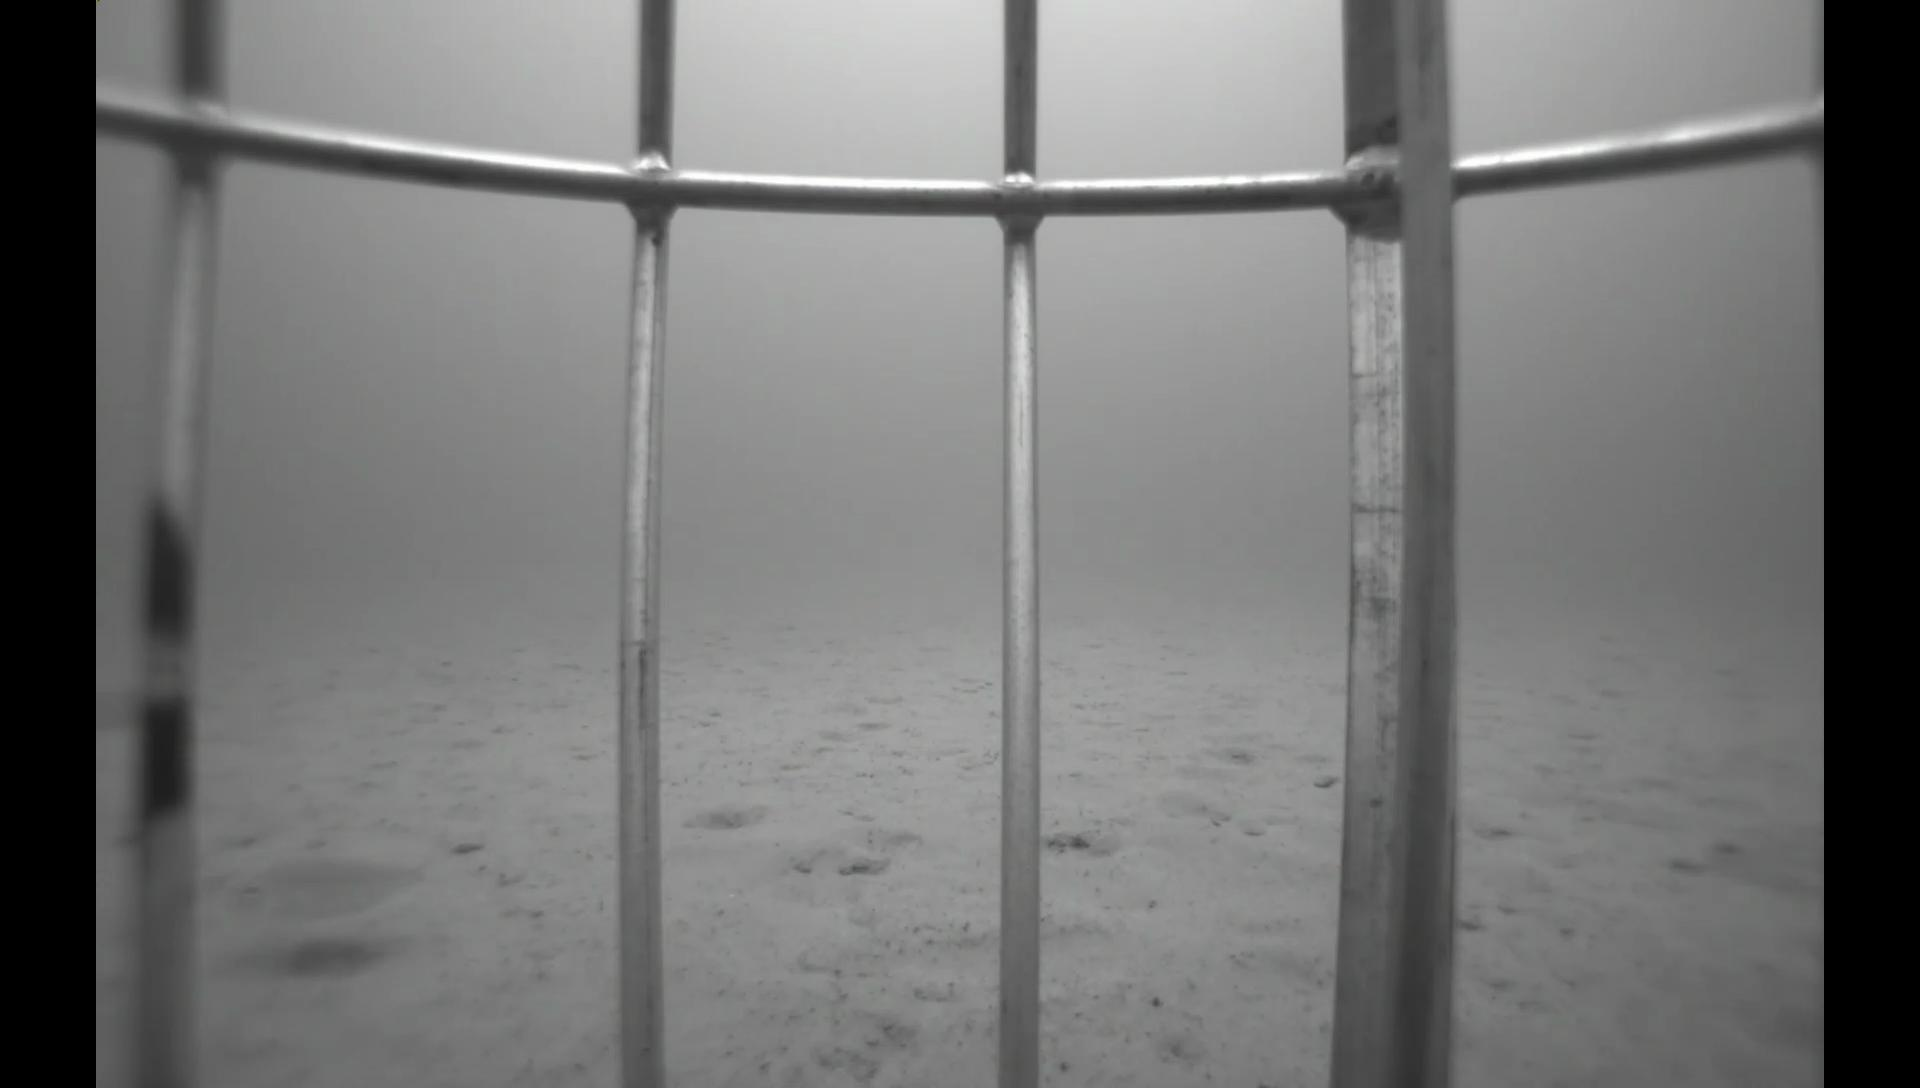CAULOLATILUSCYANOPS-170070101: (1691, 806, 1828, 917)
PRISTIPOMOIDES-170151800: (212, 819, 481, 931)
